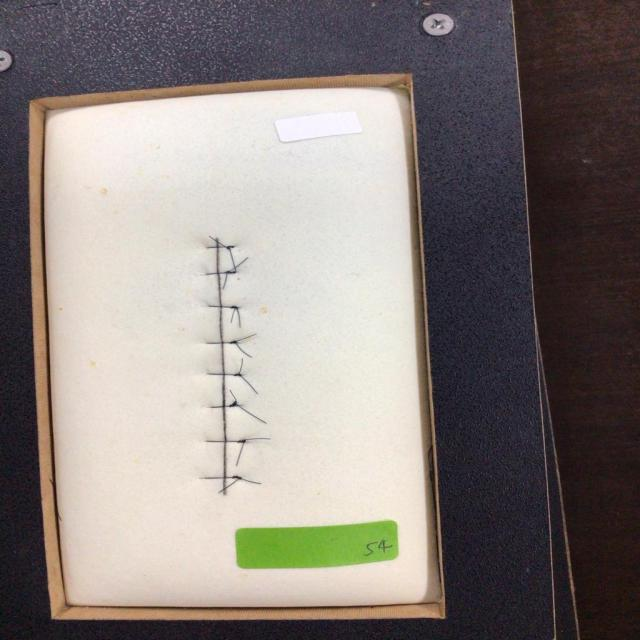knot: (232, 371, 246, 379), (229, 474, 244, 481), (223, 269, 239, 275), (227, 401, 239, 409), (224, 244, 237, 251), (235, 438, 248, 445), (227, 339, 240, 346), (229, 304, 241, 311)
leftover: (233, 402, 267, 424), (216, 477, 241, 494), (238, 374, 259, 394), (225, 256, 249, 273), (233, 341, 253, 359), (234, 440, 246, 467), (207, 235, 229, 249), (233, 332, 258, 343), (227, 247, 237, 273), (238, 477, 262, 485), (235, 306, 242, 329), (221, 271, 229, 290), (227, 389, 237, 404), (236, 357, 244, 375), (229, 306, 237, 324), (241, 437, 271, 441)
stitch: (207, 304, 240, 309), (204, 439, 245, 443), (203, 476, 242, 480), (204, 271, 235, 276), (209, 404, 243, 408), (207, 372, 241, 376), (206, 341, 239, 345), (205, 245, 235, 249)
wound: (214, 236, 227, 495)
